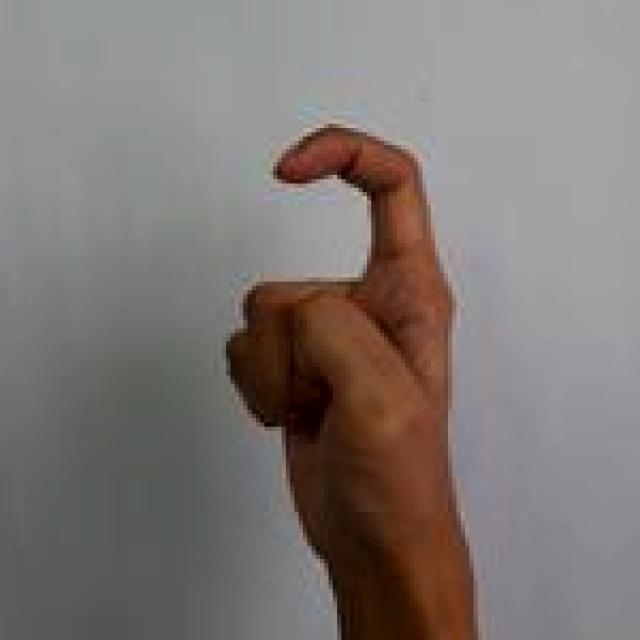X: (220, 118, 485, 640)
